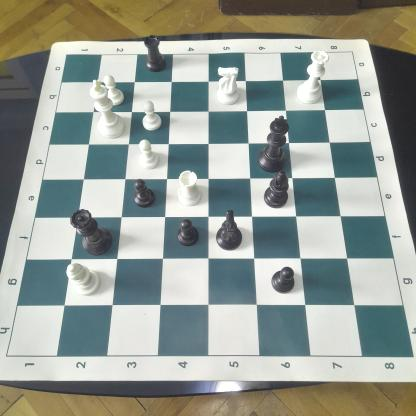black-bishop: (260, 168, 292, 210)
black-king: (256, 113, 292, 175)
black-knight: (215, 207, 245, 252)
black-pawn: (269, 262, 297, 294), (130, 178, 158, 209), (173, 217, 201, 248)
black-queen: (66, 208, 116, 257)
black-rook: (142, 32, 169, 72)
white-bishop: (64, 261, 102, 298)
white-king: (86, 78, 128, 140)
white-knight: (214, 65, 242, 106)
white-pawn: (100, 74, 126, 106), (140, 99, 163, 132), (137, 139, 161, 170)
white-queen: (295, 48, 331, 106)
white-rook: (176, 170, 204, 208)
